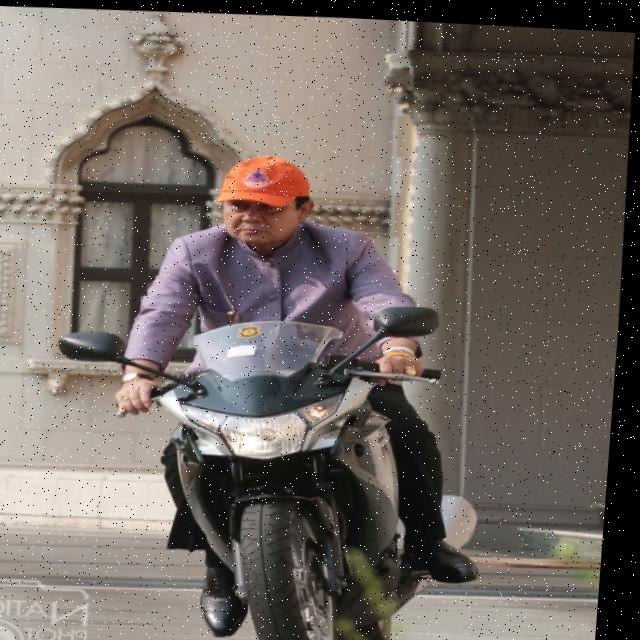illegal_helmet: (200, 139, 337, 258)
